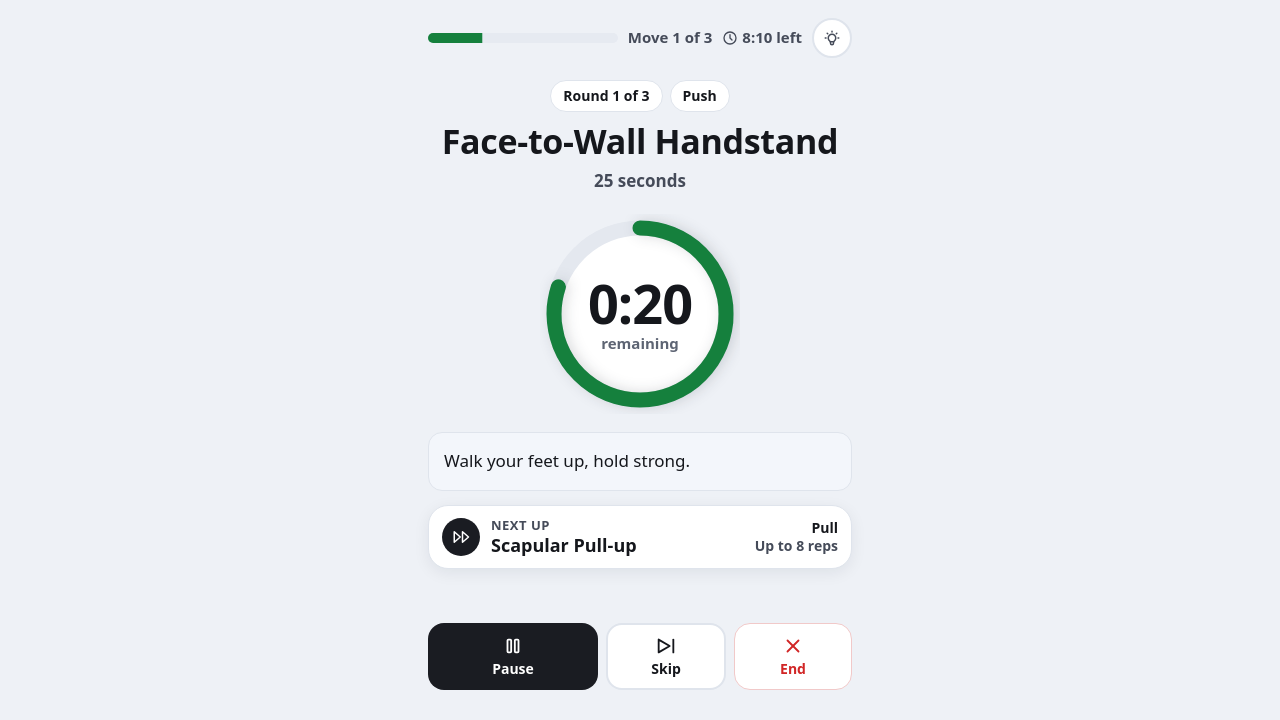
Test: ActiveScreen › pauses the workout and opens the ideas sheet to note an idea
Click the button named "Note an idea" at point(832, 38), box [812,18,852,58]
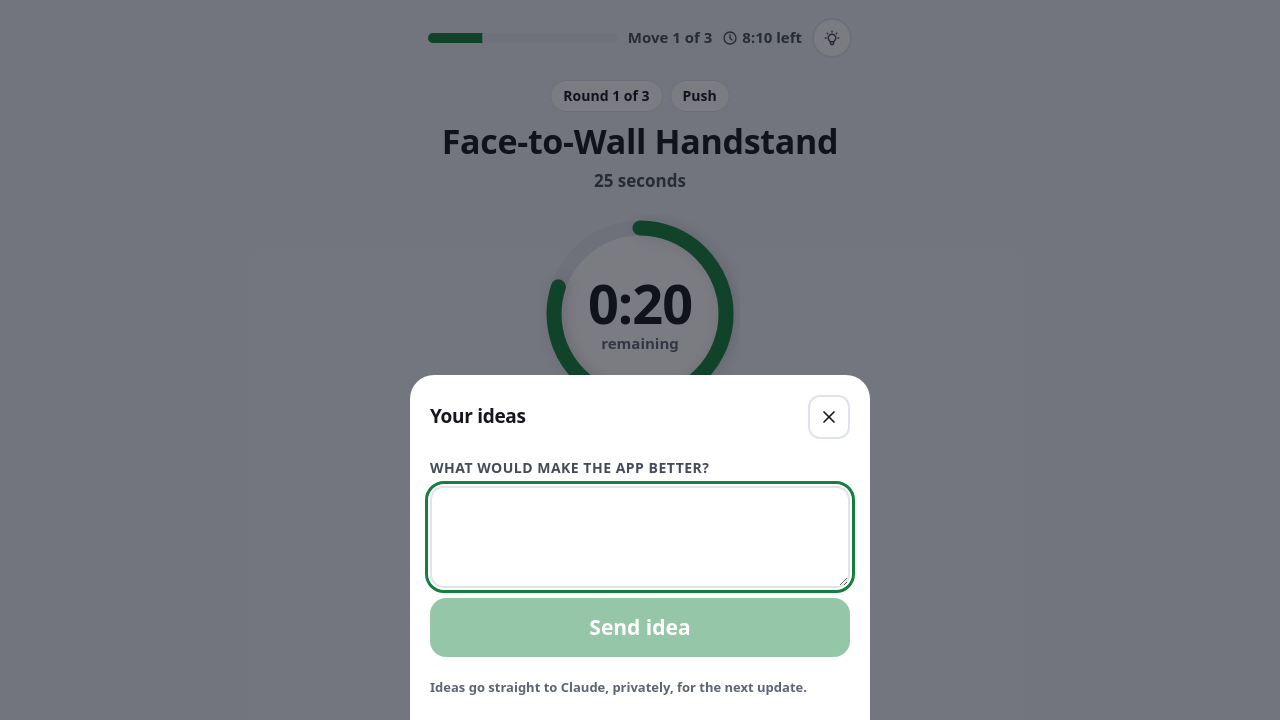
Now the dialog "Your ideas" is shown, box [410,375,870,719]
